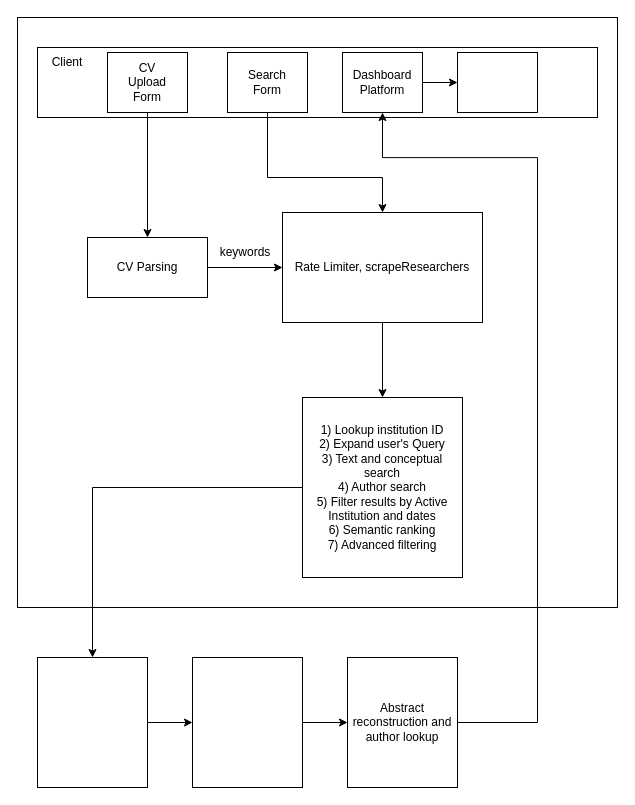
This 635x805 diagram has some shape labels left out. Here are the shapes that lost their labels. From the top down, the box of each, then its label:
(456, 52, 538, 112): Email Drafting
(36, 656, 148, 788): OpenAI Embeddings with cosine weighting
(192, 656, 302, 788): OpenAlex endpoints for data
